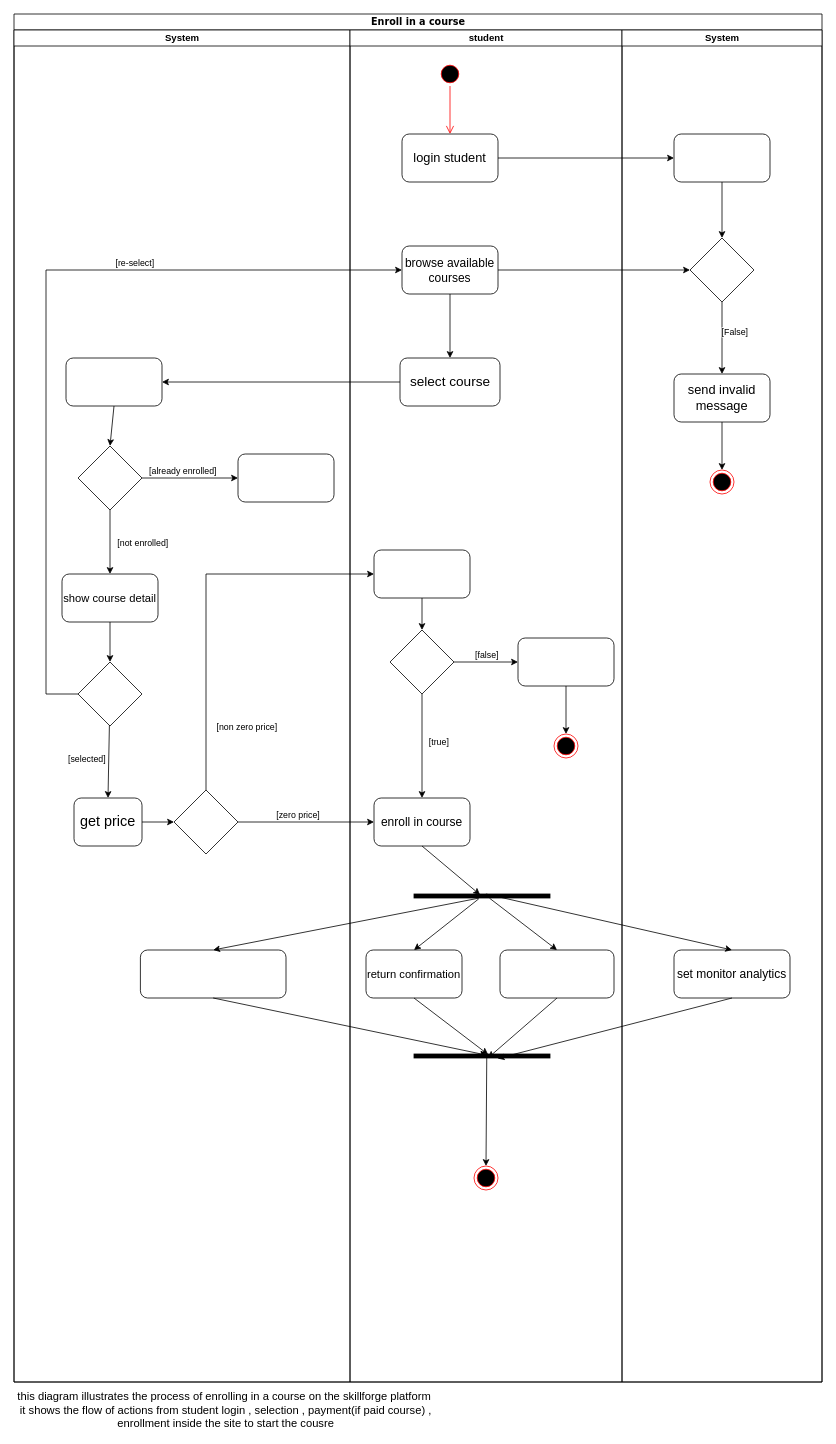
Image size: 836x1444. Some labels were removed from this diagram. Each missing label, with the centre of its shape:
"check valid login" goes at point (721, 157).
"course payment" goes at point (421, 573).
"is enrolled" goes at point (113, 381).
"send failed message" goes at point (565, 661).
"send message" goes at point (285, 477).
"set course student list" goes at point (213, 973).
"set enrolled courses" goes at point (556, 973).
